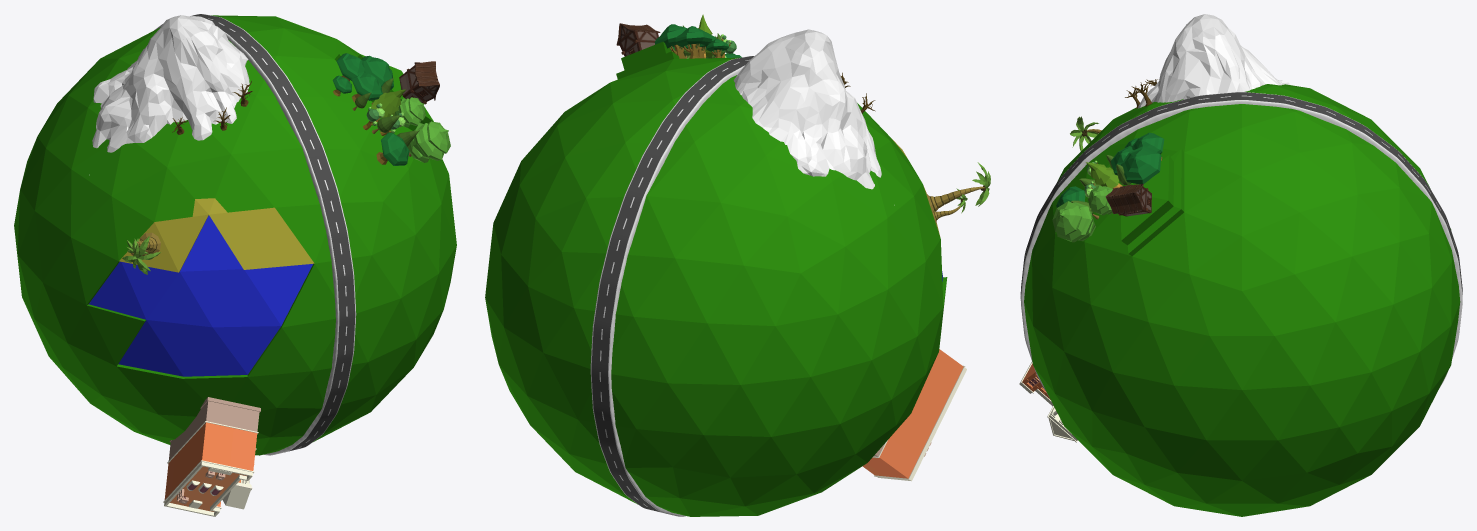
Rendered from terrain_small-transformed.glb.
The picture shows the model from 3 angles, left to right: view 1: azimuth 30°, elevation 25°; view 2: azimuth 150°, elevation 25°; view 3: azimuth 270°, elevation 25°; orthographic projection. The views are drawn at different scales.
Parts seen in each view (by area): view 1: Icosphere, mountain-poly, road-poly, university, tree-tornado.002, tree-house, tree-palm.002, tree-big.009, tree-tornado.001, tree-big.007, tree-big.006, tree-big.005 (+1 smaller); view 2: Icosphere, mountain-poly, road-poly, university, tree-house, tree-palm.002, tree-big.005; view 3: Icosphere, road-poly, mountain-poly, tree-tornado.002, tree-house, tree-big.006, university, tree-fir.001, tree-tornado.001.
Part boxes in pixels (x1=…): Icosphere: x1=14, y1=15, x2=456, y2=455; mountain-poly: x1=89, y1=15, x2=249, y2=175; road-poly: x1=154, y1=14, x2=356, y2=455; university: x1=163, y1=397, x2=260, y2=516; tree-tornado.002: x1=407, y1=121, x2=450, y2=162; tree-house: x1=399, y1=61, x2=439, y2=104; tree-palm.002: x1=122, y1=232, x2=160, y2=274; tree-big.009: x1=376, y1=132, x2=409, y2=165; tree-tornado.001: x1=394, y1=97, x2=425, y2=127; tree-big.007: x1=351, y1=72, x2=382, y2=102; tree-big.006: x1=361, y1=55, x2=393, y2=89; tree-big.005: x1=336, y1=53, x2=364, y2=81; Icosphere: x1=485, y1=42, x2=947, y2=516; mountain-poly: x1=733, y1=29, x2=894, y2=205; road-poly: x1=590, y1=56, x2=754, y2=516; university: x1=862, y1=349, x2=966, y2=481; tree-house: x1=616, y1=23, x2=660, y2=56; tree-palm.002: x1=926, y1=162, x2=990, y2=212; tree-big.005: x1=675, y1=26, x2=712, y2=58; Icosphere: x1=1024, y1=84, x2=1460, y2=516; road-poly: x1=1020, y1=92, x2=1462, y2=396; mountain-poly: x1=1138, y1=14, x2=1290, y2=108; tree-tornado.002: x1=1052, y1=201, x2=1095, y2=242; tree-house: x1=1105, y1=184, x2=1151, y2=216; tree-big.006: x1=1121, y1=146, x2=1161, y2=184; university: x1=1019, y1=362, x2=1077, y2=442; tree-fir.001: x1=1086, y1=162, x2=1122, y2=188; tree-tornado.001: x1=1088, y1=185, x2=1112, y2=215.
Size of the model in its own units: 32.22 by 36.74 by 32.5.
Materials: 26 (5 with a texture image).
